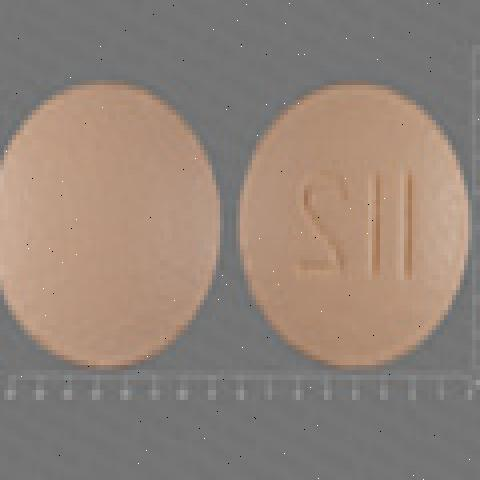Pill: (0, 69, 235, 392), (229, 72, 472, 370)
